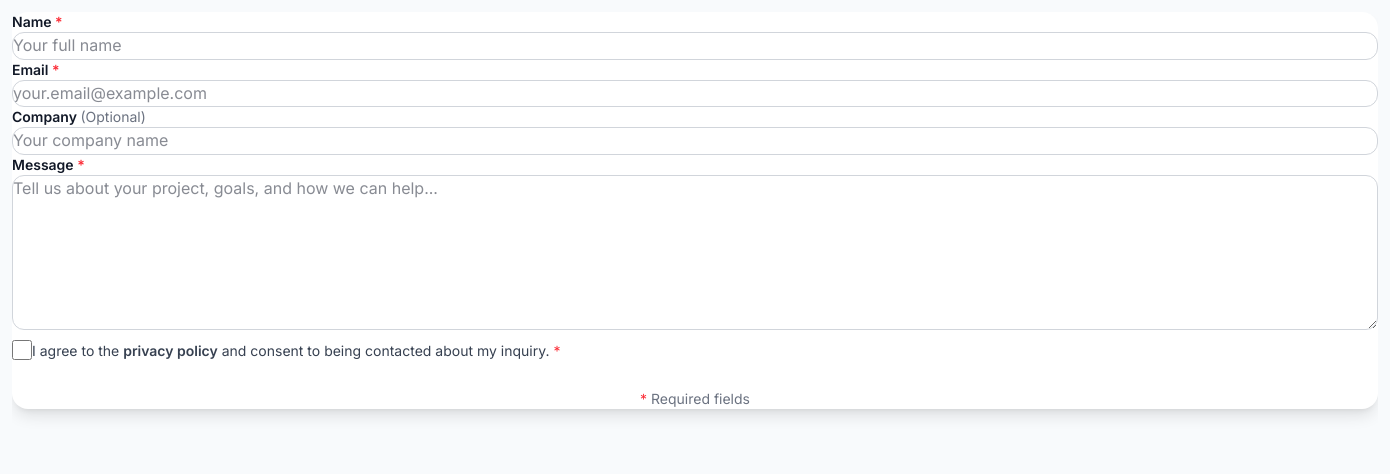
ContactForm › preserves form input on submission error
// Fill in form
Type "John Doe" into the field labelled "Name *" at (695, 46), box [12,32,1378,60]
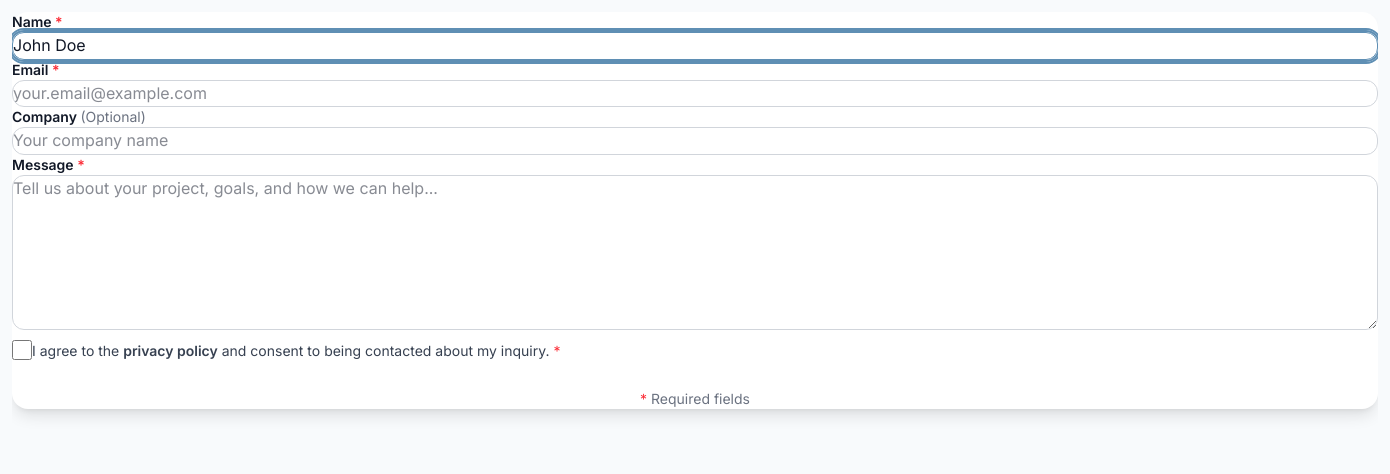
Type "john@example.com" into the field labelled "Email *" at (695, 93), box [12,80,1378,107]
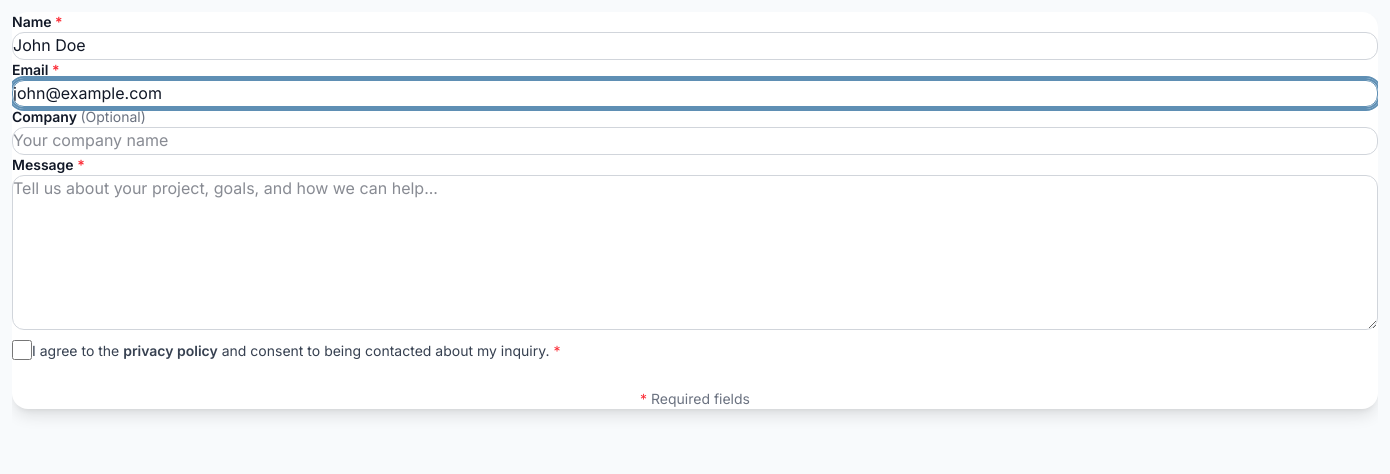
Type "This is a test message for the contact form" into the text box labelled "Message *" at (695, 253), box [12,175,1378,330]
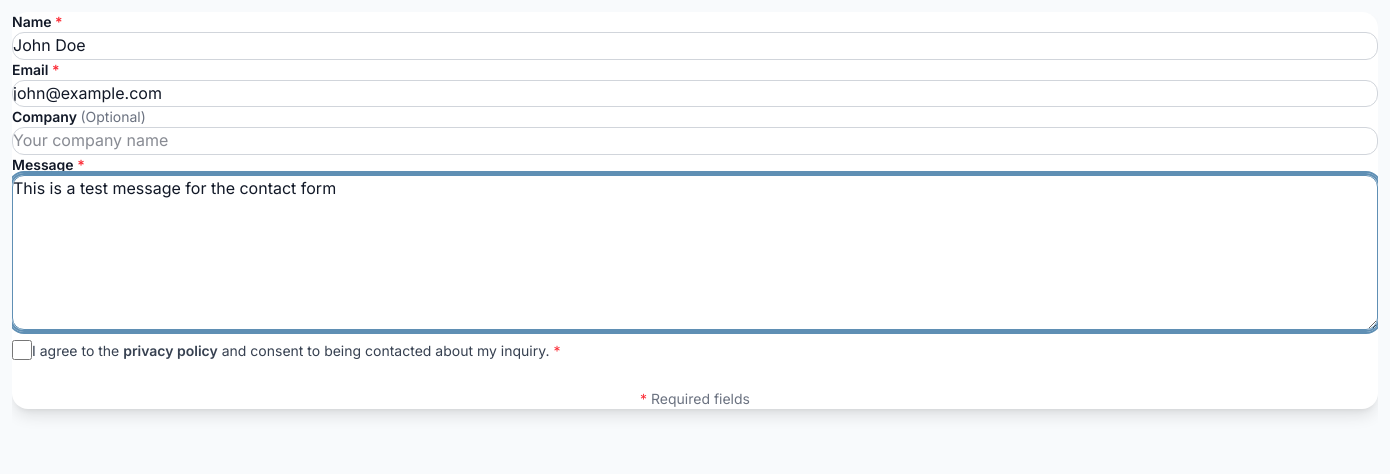
Click the checkbox labelled "privacy policy" at (22, 350), box [12,340,32,360]
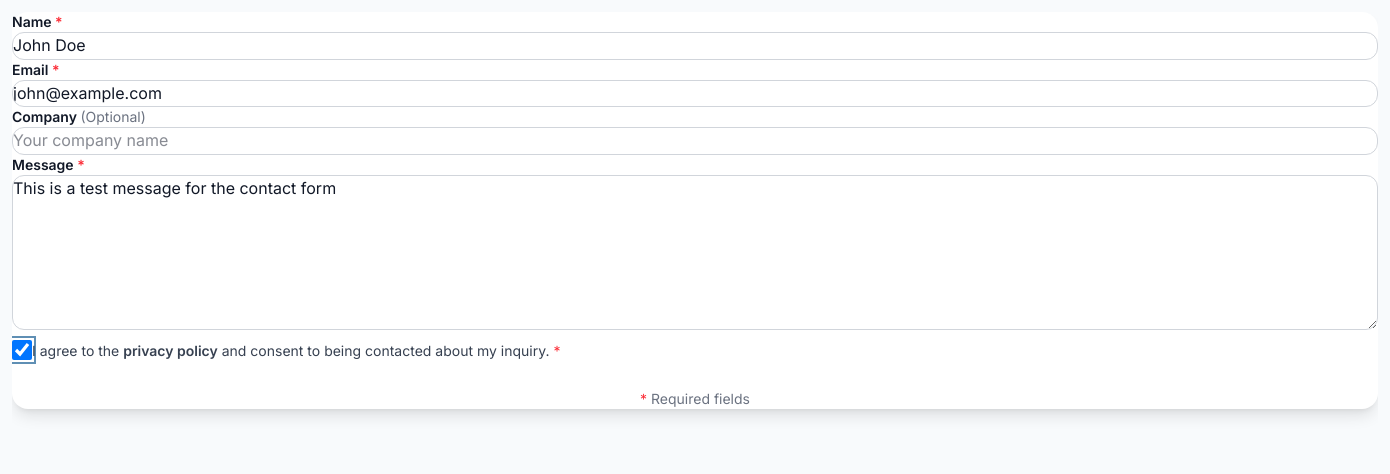
// Submit form
Click the button "Send Message" at (695, 376), box [12,364,1378,389]
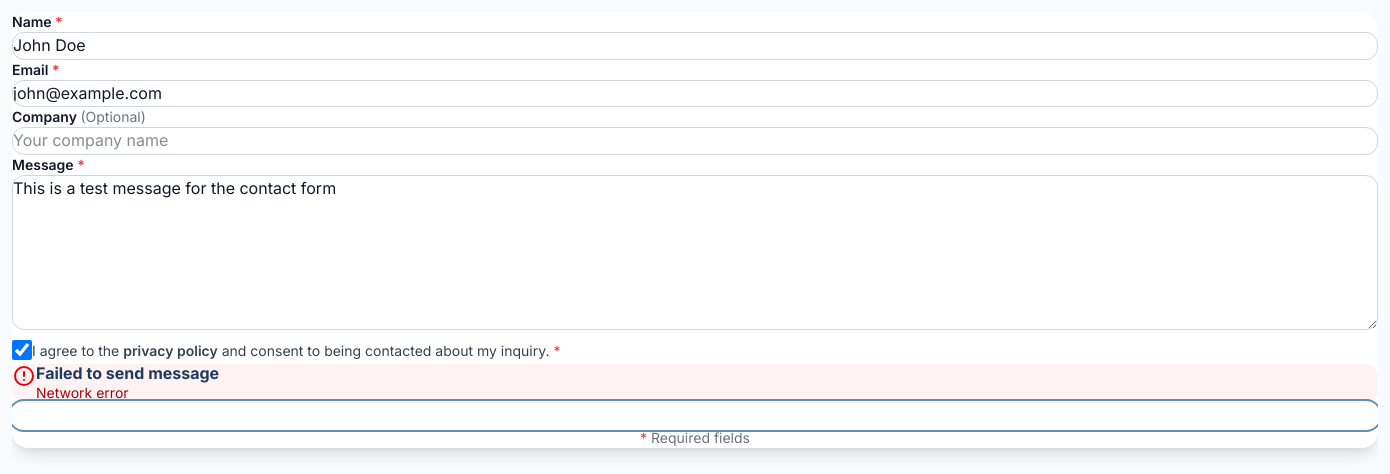
Result: the heading "Failed to send message" is shown at [36,364,219,383]
